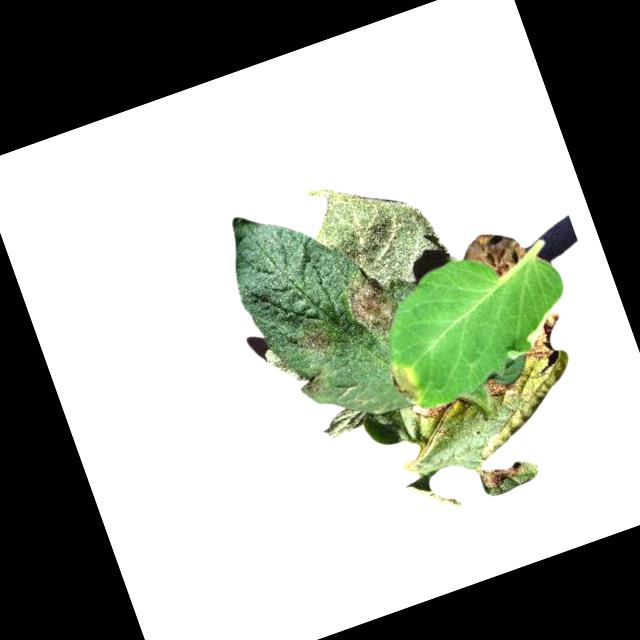Late_blight: (457, 220, 535, 288), (343, 268, 400, 339), (513, 310, 572, 365), (386, 356, 427, 410), (292, 318, 341, 362), (479, 457, 526, 493), (410, 395, 453, 423), (484, 371, 517, 398), (301, 368, 327, 395)
